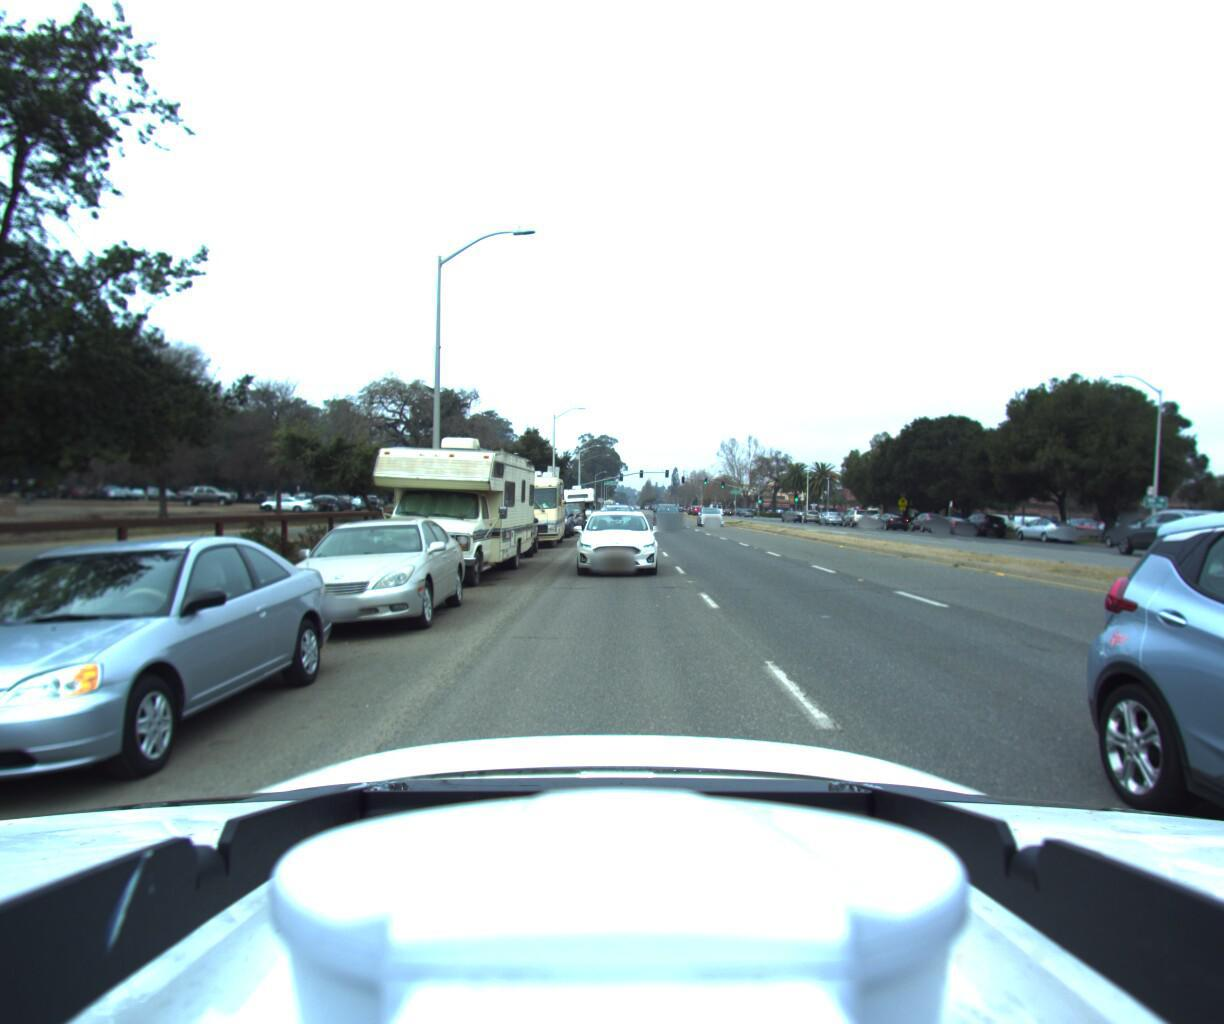car: (0, 521, 355, 832), (257, 509, 472, 645), (1092, 507, 1218, 558), (562, 506, 654, 575), (469, 501, 539, 558), (1157, 513, 1224, 556), (1006, 514, 1076, 542), (526, 501, 576, 539), (546, 495, 586, 530), (950, 511, 1004, 536), (904, 510, 946, 532), (655, 503, 685, 527), (871, 508, 909, 527), (840, 505, 873, 525), (696, 504, 726, 525), (818, 510, 845, 524)
other_vehicle: (355, 424, 538, 583), (486, 466, 569, 548), (556, 485, 596, 526)
